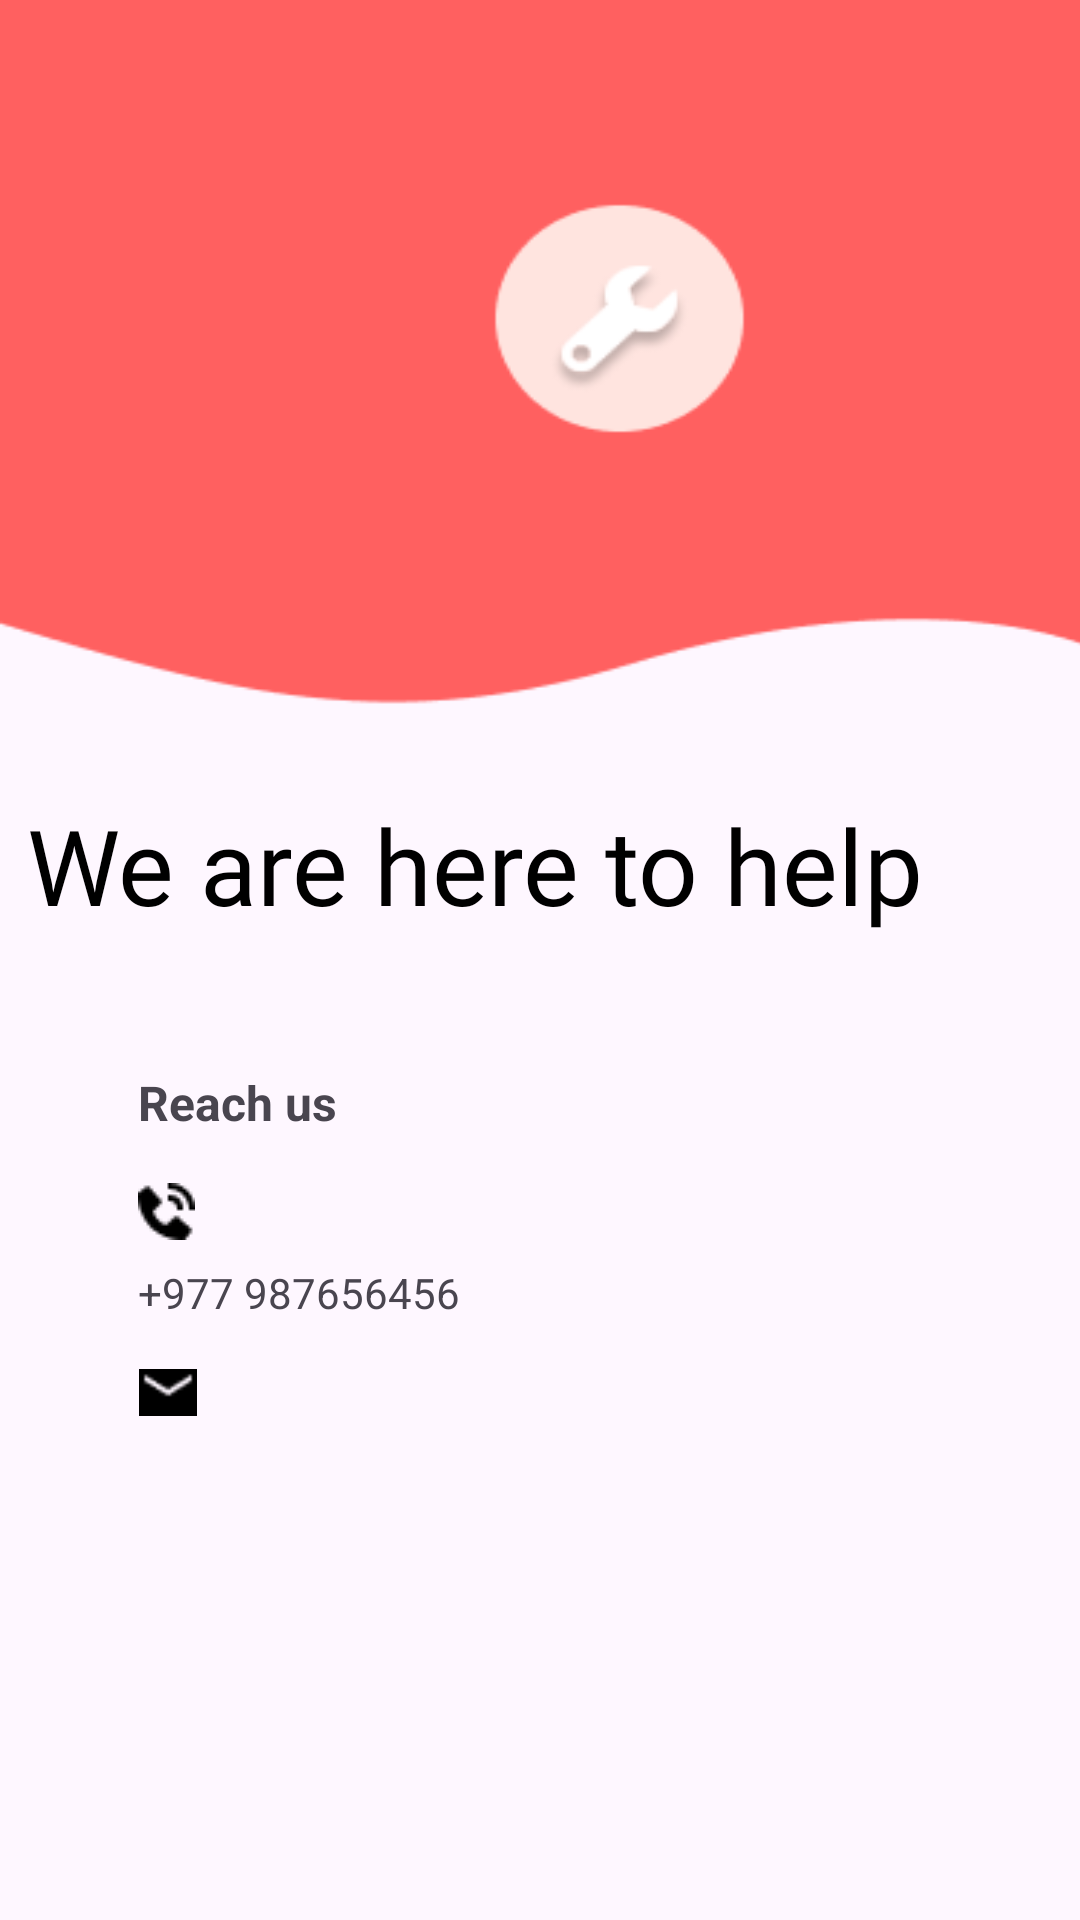

Named icons in this screenshot (1080*1920) and their bounding boxes, (x1, y1, x2, y2):
email: (139, 1369, 197, 1416)
phone: (138, 1183, 195, 1240)
